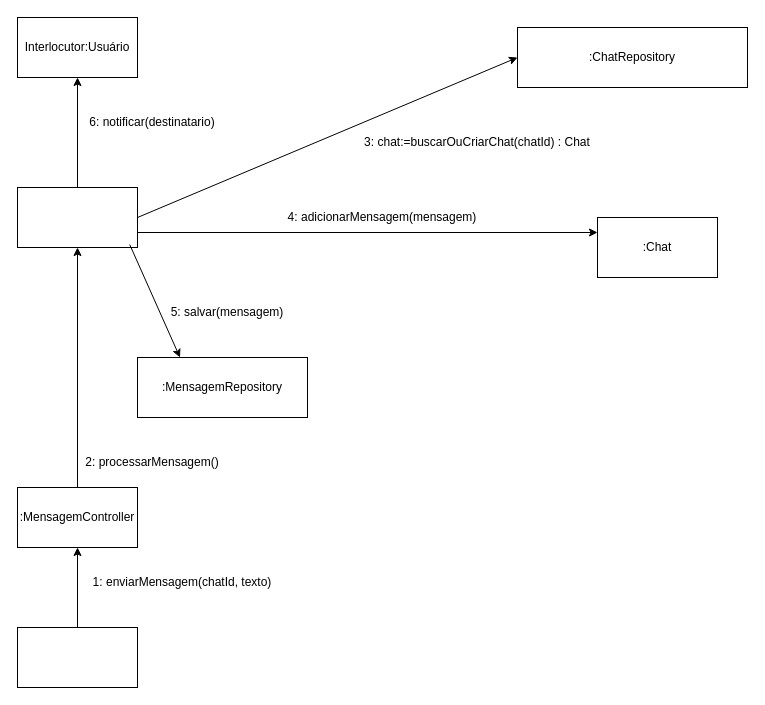
This 765x705 diagram has some shape labels left out. The shapes that lost their labels are listed below. From the top down, each one's centre as x and y in pixels, then its label:
pixel 77 217: :MensagemService
pixel 77 657: Locutor:Usuário
